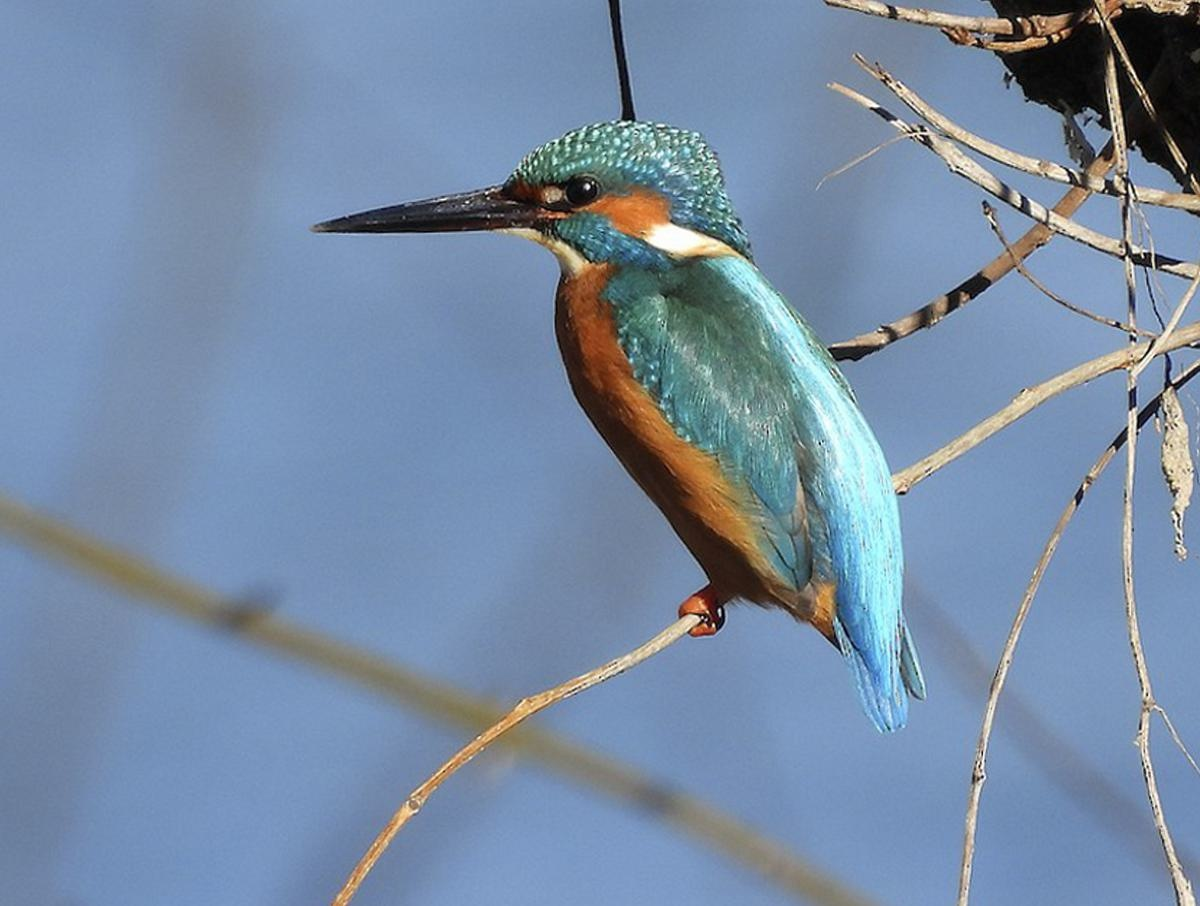kingfisher: (312, 123, 942, 715)
